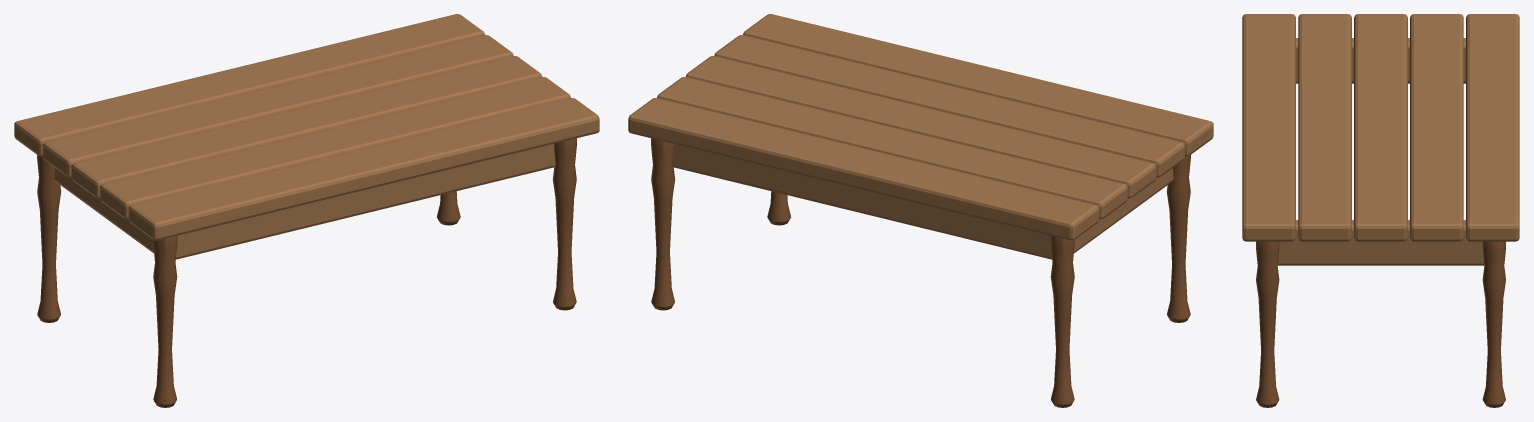
Rendered from table.glb.
3 renders of one model, left to right at view 1: azimuth 30°, elevation 25°; view 2: azimuth 150°, elevation 25°; view 3: azimuth 270°, elevation 25°, orthographic. The views are drawn at different scales.
Parts seen in each view (by area): view 1: top_0, top_1, top_2, top_3, top_4, apron.002, turned_leg, turned_leg.002, turned_leg.001, apron, turned_leg.003; view 2: top_4, top_3, top_1, top_2, top_0, apron.003, turned_leg.001, turned_leg.003, turned_leg, apron, turned_leg.002; view 3: top_0, top_4, top_1, top_2, top_3, apron.001, turned_leg.002, turned_leg.003, apron.
Boxes of the visible parts, bbox=[...] form: top_0: bbox=[128, 98, 599, 240]; top_1: bbox=[100, 77, 570, 219]; top_2: bbox=[71, 56, 542, 198]; top_3: bbox=[43, 35, 513, 177]; top_4: bbox=[14, 14, 484, 156]; apron.002: bbox=[175, 144, 555, 259]; turned_leg: bbox=[153, 236, 177, 407]; turned_leg.002: bbox=[552, 138, 576, 310]; turned_leg.001: bbox=[37, 155, 61, 322]; apron: bbox=[54, 168, 153, 253]; turned_leg.003: bbox=[437, 191, 460, 225]; top_4: bbox=[628, 98, 1099, 240]; top_3: bbox=[657, 77, 1127, 219]; top_1: bbox=[714, 35, 1184, 177]; top_2: bbox=[685, 56, 1156, 198]; top_0: bbox=[743, 14, 1213, 156]; apron.003: bbox=[672, 144, 1052, 259]; turned_leg.001: bbox=[1050, 236, 1074, 407]; turned_leg.003: bbox=[651, 138, 675, 310]; turned_leg: bbox=[1166, 155, 1190, 322]; apron: bbox=[1074, 168, 1173, 253]; turned_leg.002: bbox=[767, 191, 790, 225]; top_0: bbox=[1242, 14, 1295, 241]; top_4: bbox=[1466, 14, 1519, 241]; top_1: bbox=[1298, 14, 1351, 241]; top_2: bbox=[1354, 14, 1407, 241]; top_3: bbox=[1410, 14, 1463, 241]; apron.001: bbox=[1277, 220, 1484, 265]; turned_leg.002: bbox=[1256, 241, 1279, 407]; turned_leg.003: bbox=[1482, 241, 1505, 407]; apron: bbox=[1296, 38, 1465, 83].
Bounding box in the file's own units: 1.8 × 0.75 × 0.992.
